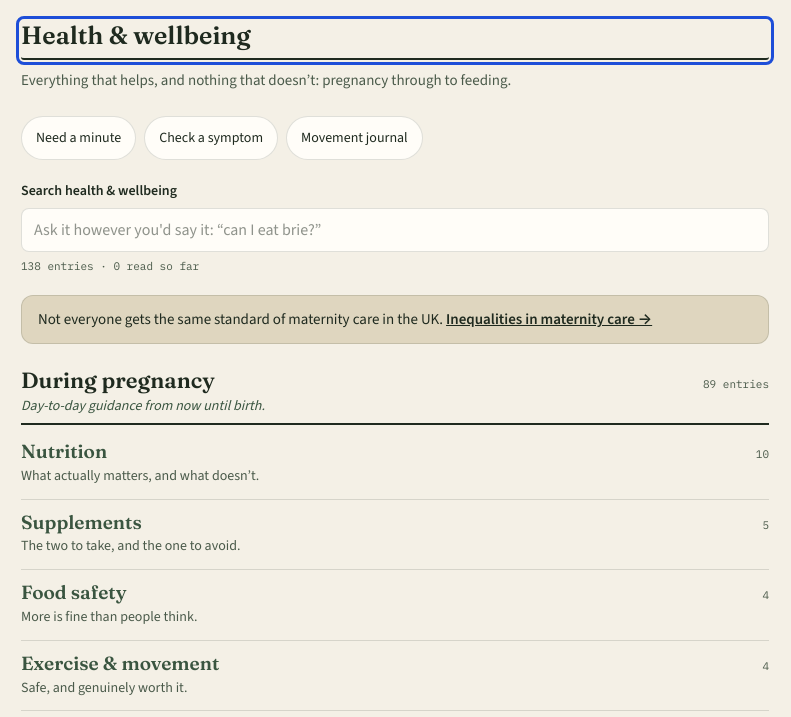
Scenario: the urgent offer does not become a diagnosis › offers rather than diverts — the results are still there
Step 1. Type "bleeding" into the search field labelled "Search health & wellbeing" → (395, 230), box [21,208,769,252]
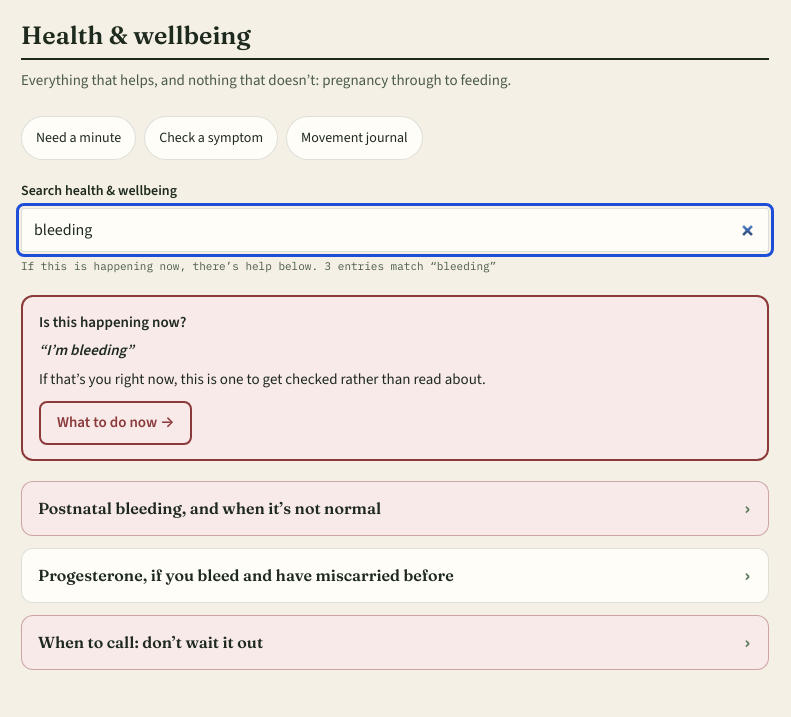
Expected: the text "Is this happening now?" is shown, [39,312,186,332]
